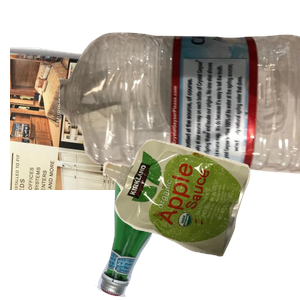glass: (93, 143, 284, 300)
paper: (10, 44, 232, 224)
plastic: (60, 30, 300, 196)
trash: (100, 137, 300, 300)
